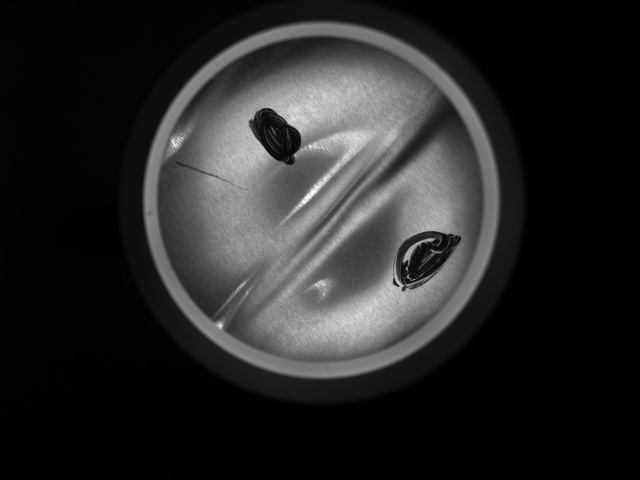ca_shang: (170, 154, 250, 194)
zang_wu: (387, 230, 465, 294), (245, 106, 309, 168)
zhe_zhou: (207, 62, 435, 335)
